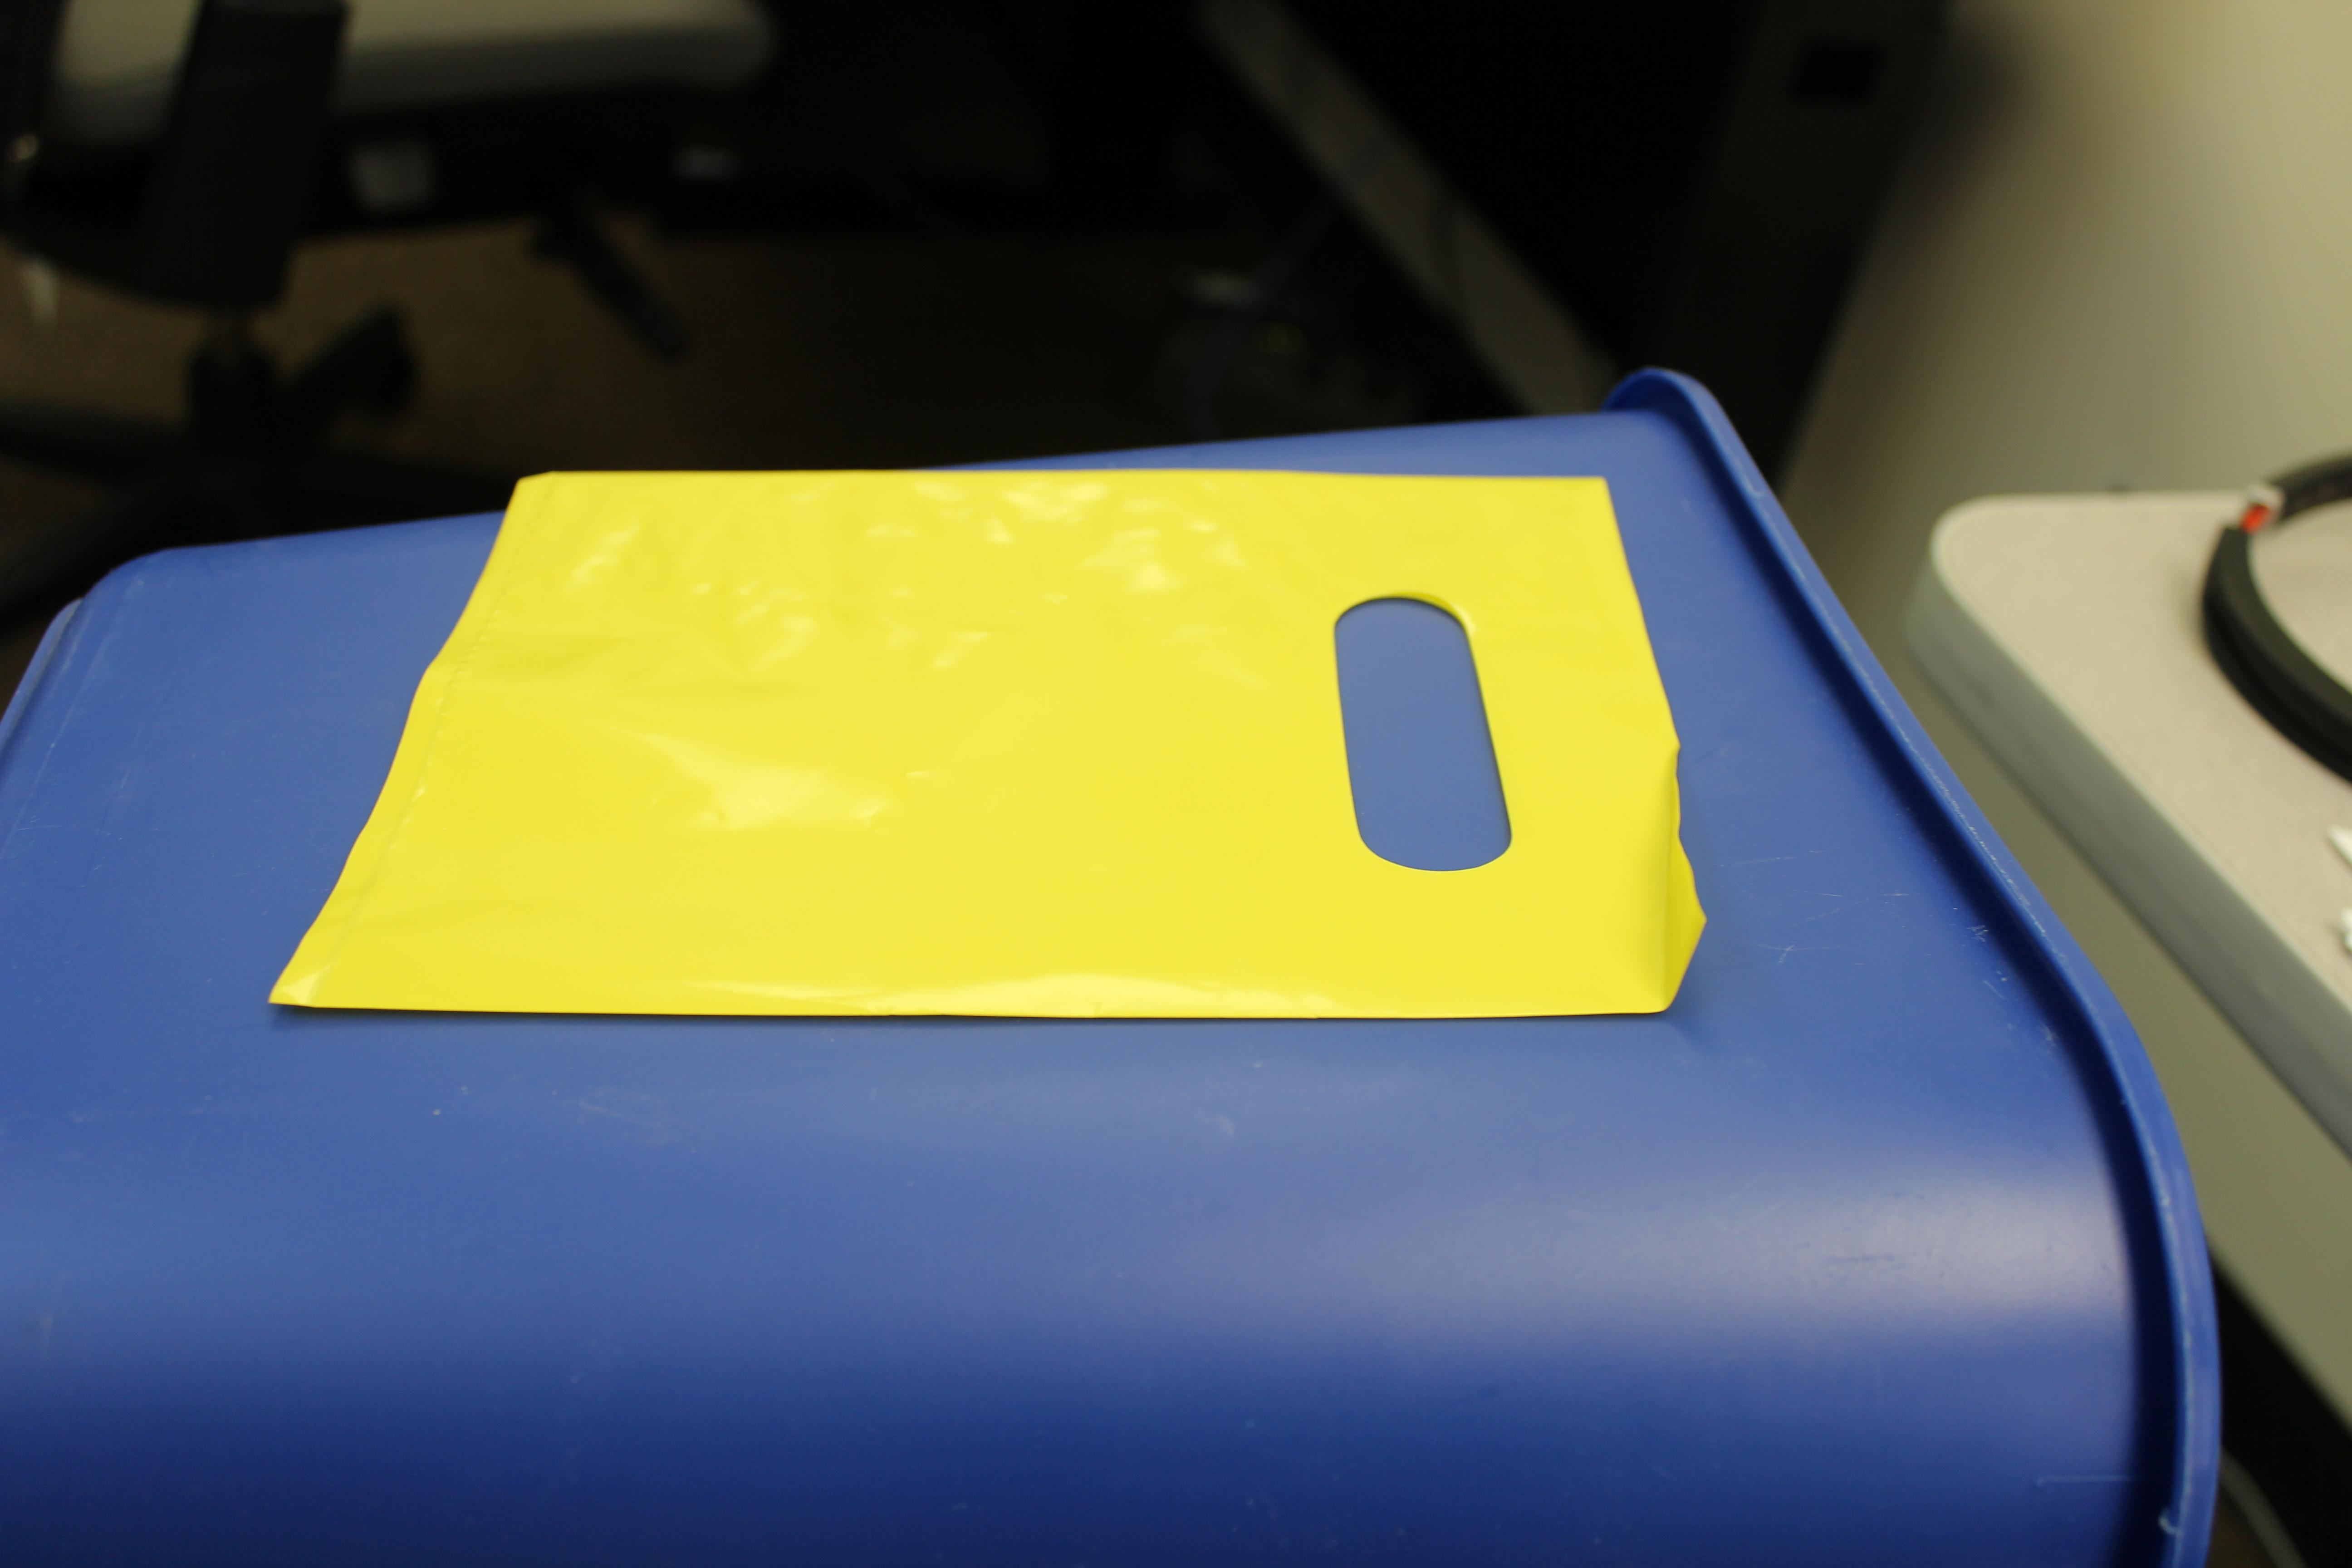yellowBag: (226, 415, 1764, 1078)
